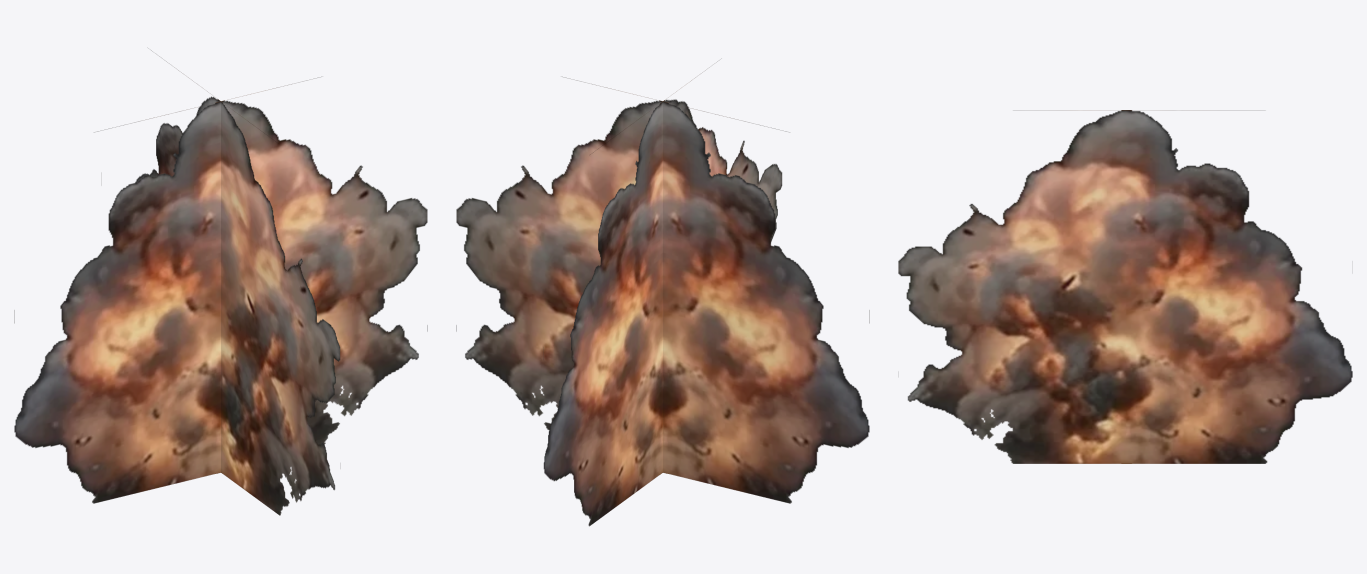
File: explosion.glb
The picture shows the model from 3 angles, left to right: view 1: azimuth 30°, elevation 25°; view 2: azimuth 150°, elevation 25°; view 3: azimuth 270°, elevation 25°; orthographic projection. The views are drawn at different scales.
Parts seen in each view (by area): view 1: geometry_0; view 2: geometry_0; view 3: geometry_0.
Part boxes in pixels (x1,y1,x2,y2): geometry_0: [14, 50, 427, 515]; geometry_0: [456, 61, 869, 526]; geometry_0: [898, 110, 1352, 463].
Size of the model in its own units: 1 by 0.8594 by 1.
Materials: 1 (1 with a texture image).
